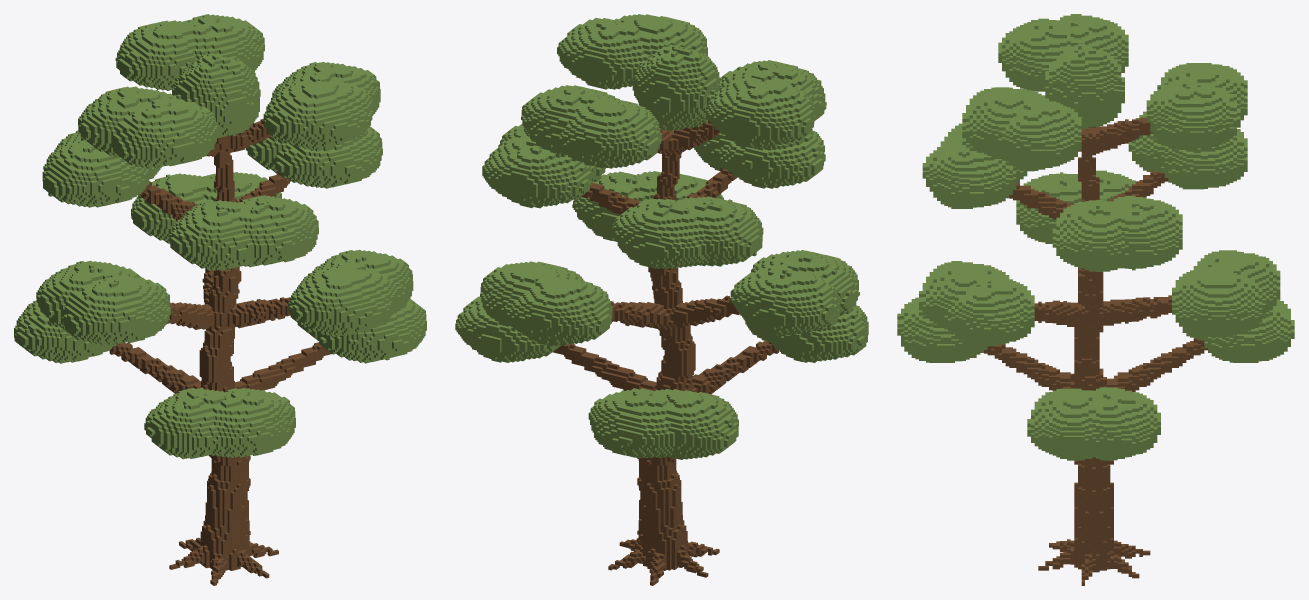
The picture shows the model from 3 angles, left to right: view 1: azimuth 30°, elevation 25°; view 2: azimuth 150°, elevation 25°; view 3: azimuth 270°, elevation 25°; orthographic projection.
Parts seen in each view (by area): view 1: 既有乔木色阶与高度族; view 2: 既有乔木色阶与高度族; view 3: 既有乔木色阶与高度族.
Part boxes in pixels (x1,y1,x2,y2): 既有乔木色阶与高度族: (14,14,426,585); 既有乔木色阶与高度族: (455,14,868,585); 既有乔木色阶与高度族: (897,14,1294,585).
Size of the model in its own units: 23 by 31 by 22.
Materials: 3 (3 with a texture image).
